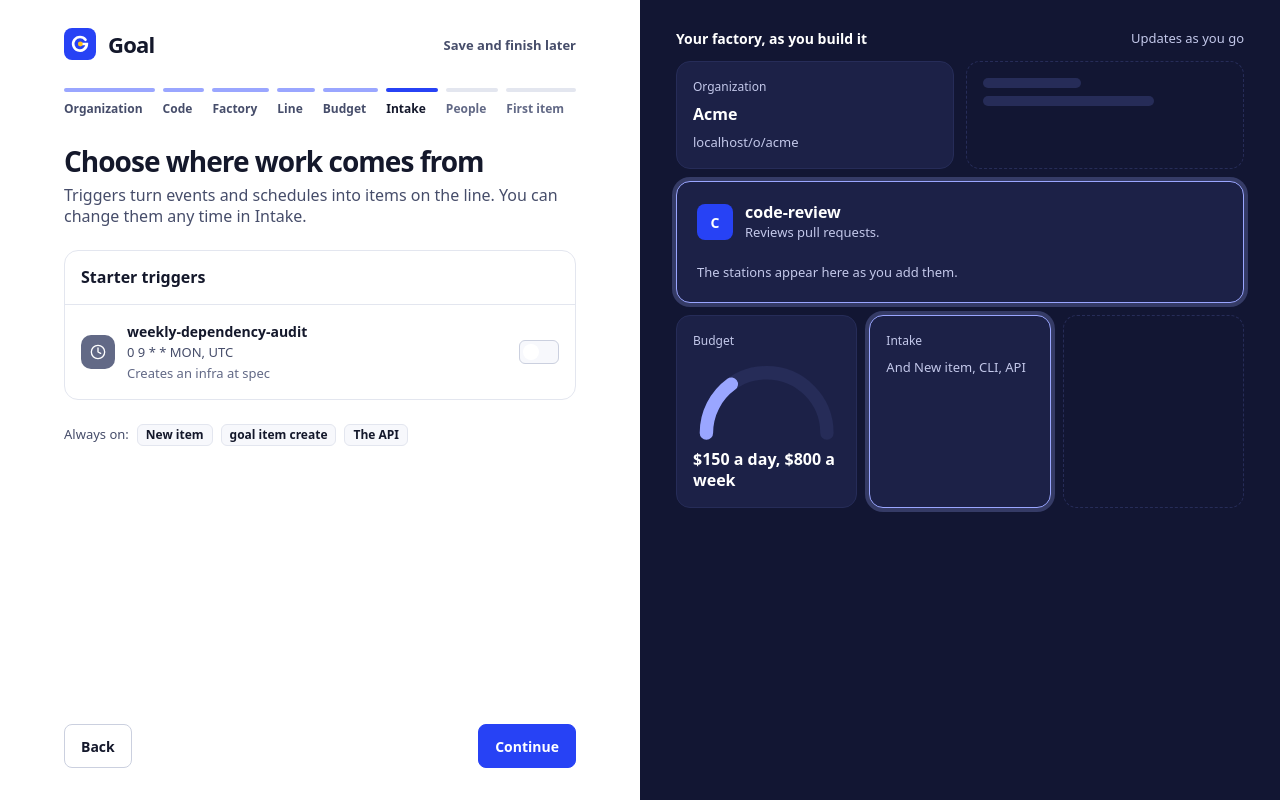
step 6, choose where work comes from › says a draft that is already open holds the change, and writes nothing
Click the switch named "weekly-dependency-audit". click: (539, 352)
box: [519,340,559,364]
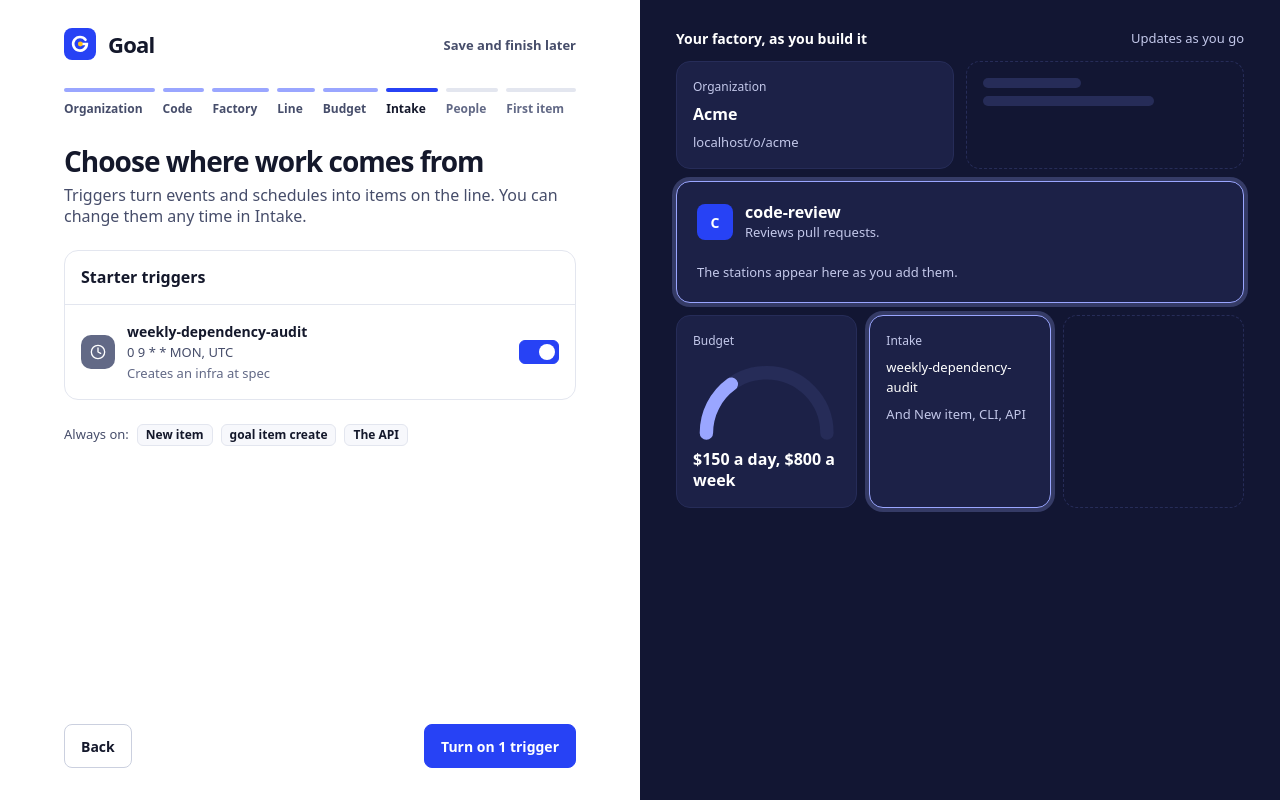
Click the button "Turn on 1 trigger". click: (500, 746)
box: [424,724,576,768]
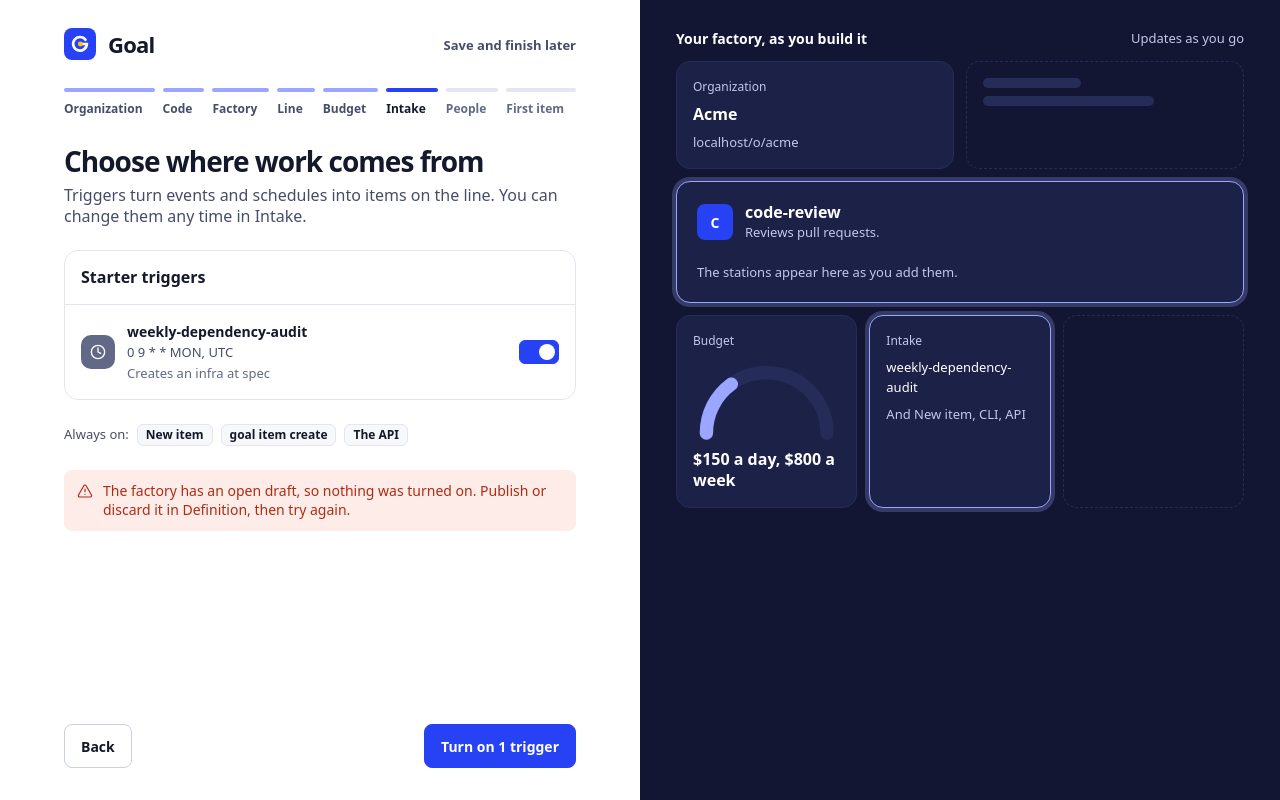
Check: the text "The factory has an open draft" is shown, box [103,481,546,520]
